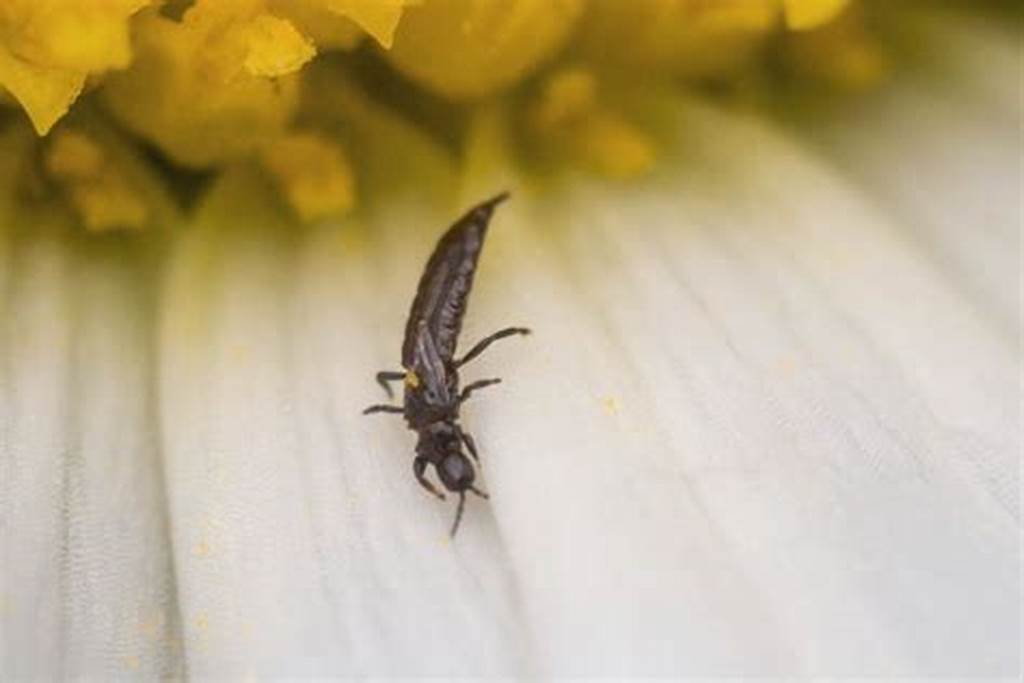Phlaeothripidae: (371, 178, 531, 541)
